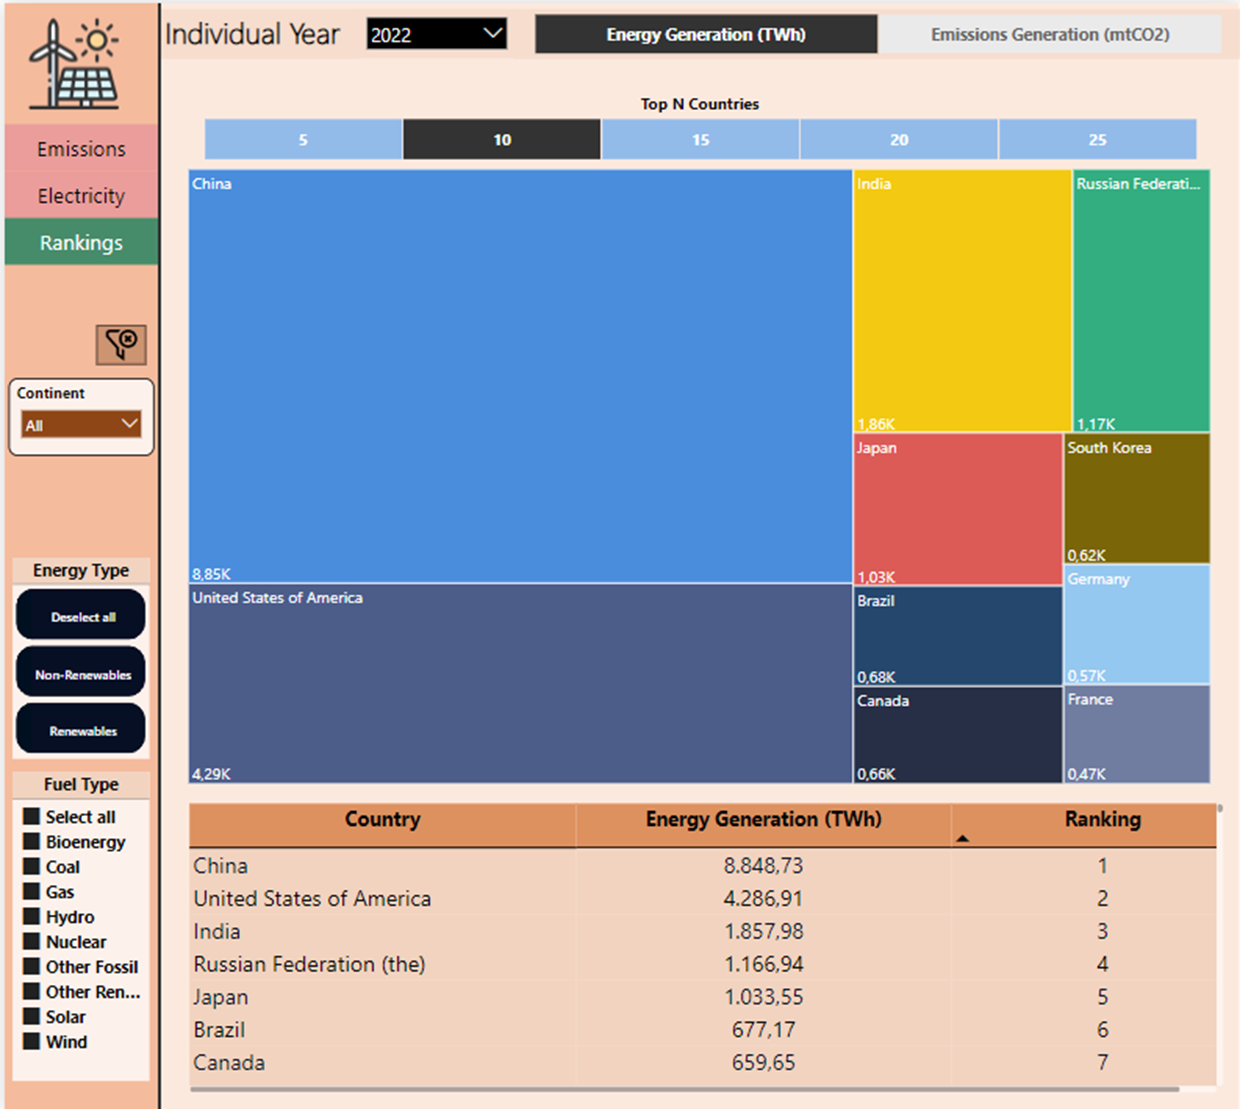

The dashboard page shown, as its layout file describes it:
{"tool":"powerbi","page":{"name":"Rankings","canvas":[1580,1420],"ordinal":2},"visuals":[{"type":"advancedSlicerVisual","title":"Energy Type","fields":{"Values":["DimVariable.Variable (groups)"]},"box":[10,710,175,257.5],"z":0},{"type":"slicer","title":"Fuel Type","fields":{"Values":["DimVariable.Variable"]},"box":[10,985,175,395],"z":1000},{"type":"actionButton","box":[0,156.1,196.1,60],"z":4000},{"type":"actionButton","box":[0,216.2,196.2,60],"z":5000},{"type":"actionButton","box":[0,276.1,196.1,60],"z":6000},{"type":"slicer","fields":{"Values":["Energy_vs_Emissons.Energy_vs_Emissons"]},"box":[652,8,928,64],"z":7000},{"type":"tableEx","fields":{"Values":["DimGeography.Country","yearly_full_release_long_format.Total_Energy_Generation","yearly_full_release_long_format.DynamicRank"]},"box":[230,1020,1334,380],"z":8000},{"type":"slicer","title":"Continent","fields":{"Values":["DimGeography.Continent"]},"box":[4.5,480.9,186.4,100],"z":9000},{"type":"slicer","fields":{"Values":["yearly_full_release_long_format.Year"]},"box":[452,8.7,200,63.3],"z":10000},{"type":"textbox","box":[200,8.5,252.4,63.9],"z":11000},{"type":"treemap","fields":{"Values":["yearly_full_release_long_format.Total_Energy_Generation"],"Group":["DimGeography.Country"]},"box":[230,207.5,1317.5,797.5],"z":12000},{"type":"slicer","title":"Top N Countries","fields":{"Values":["TopN.TopN"]},"box":[230,116,1318,92],"z":13000},{"type":"image","box":[117.1,412.9,62.9,50],"z":14000}]}

Visuals, with their boxes on the page's 1580x1420 design canvas (x1, y1, x2, y2). These are canvas units, not pixel positions in the 1240x1109 screenshot, which may show the page scaled, cropped or inside an application window:
"Energy Type" advancedSlicerVisual: [left=10, top=710, right=185, bottom=968]
"Fuel Type" slicer: [left=10, top=985, right=185, bottom=1380]
actionButton: [left=0, top=156, right=196, bottom=216]
actionButton: [left=0, top=216, right=196, bottom=276]
actionButton: [left=0, top=276, right=196, bottom=336]
slicer - Energy_vs_Emissons.Energy_vs_Emissons: [left=652, top=8, right=1580, bottom=72]
tableEx - DimGeography.Country x yearly_full_release_long_format.Total_Energy_Generation: [left=230, top=1020, right=1564, bottom=1400]
"Continent" slicer: [left=4, top=481, right=191, bottom=581]
slicer - yearly_full_release_long_format.Year: [left=452, top=9, right=652, bottom=72]
textbox: [left=200, top=8, right=452, bottom=72]
treemap - yearly_full_release_long_format.Total_Energy_Generation x DimGeography.Country: [left=230, top=208, right=1548, bottom=1005]
"Top N Countries" slicer: [left=230, top=116, right=1548, bottom=208]
image: [left=117, top=413, right=180, bottom=463]
